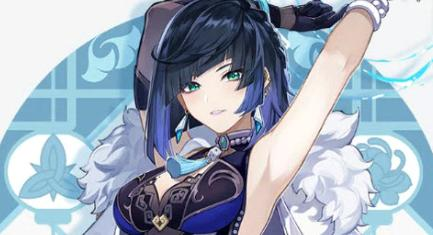夜兰: (112, 1, 392, 235)
